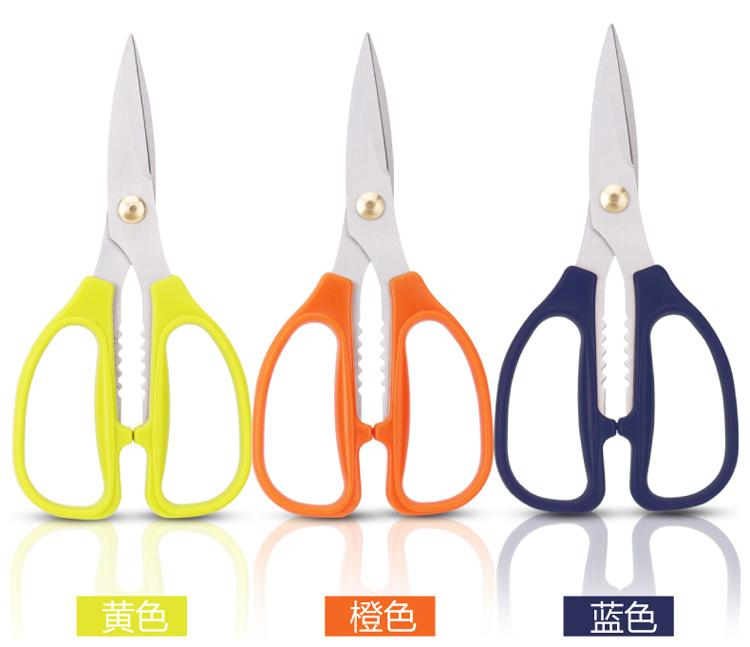scissor: (56, 51, 750, 554)
